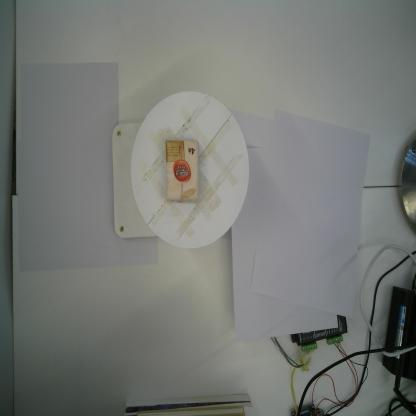Tissue: (164, 139, 200, 204)
